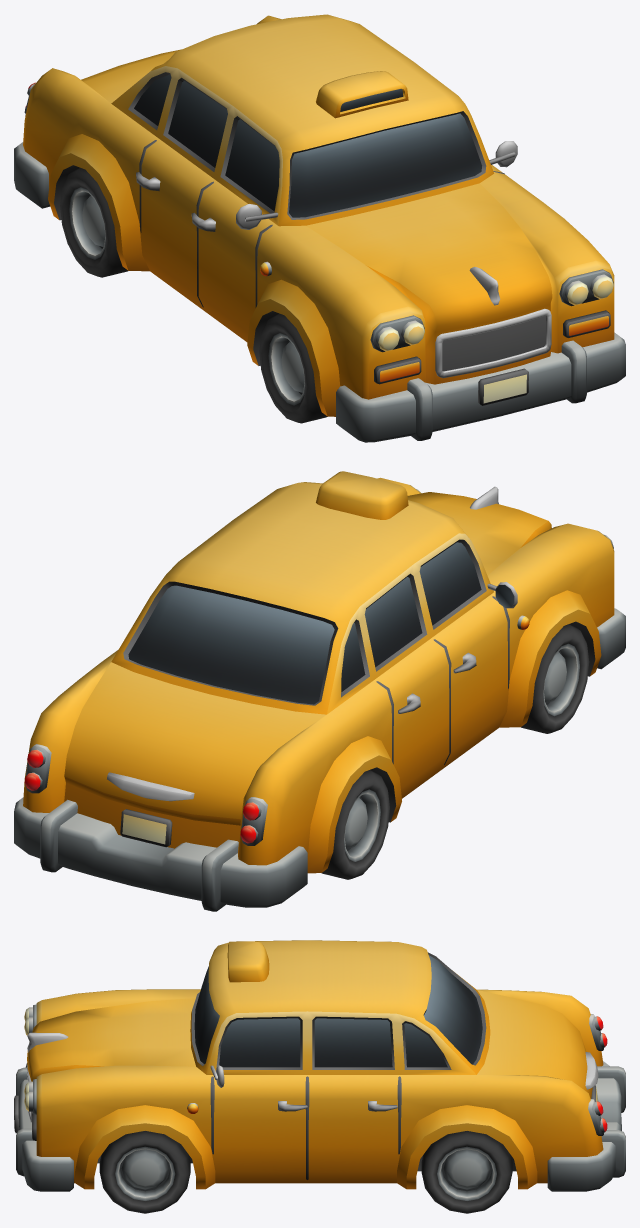
Rendered from VHC0110001.FBX.
3 renders of one model, top to bottom at view 1: azimuth 30°, elevation 25°; view 2: azimuth 150°, elevation 25°; view 3: azimuth 270°, elevation 25°, orthographic. The views are drawn at different scales.
Visible parts, largest first — view 1: smVHC0110001; view 2: smVHC0110001; view 3: smVHC0110001.
Part boxes in pixels (x1,y1,x2,y2): smVHC0110001: (14, 14, 625, 442); smVHC0110001: (14, 471, 625, 911); smVHC0110001: (14, 940, 625, 1213).
Bounding box in the file's own units: 1.54 × 1.35 × 3.58.
1 material, 1 textured.
